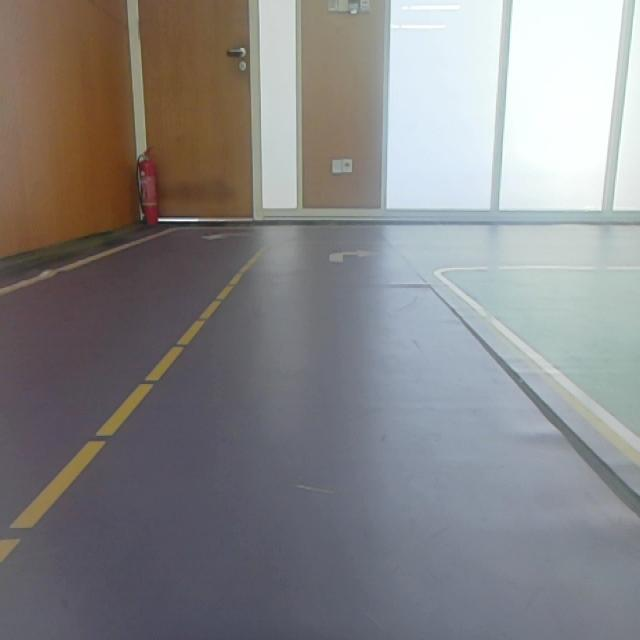left_lane: (1, 247, 266, 558)
right_lane: (438, 273, 640, 468)
